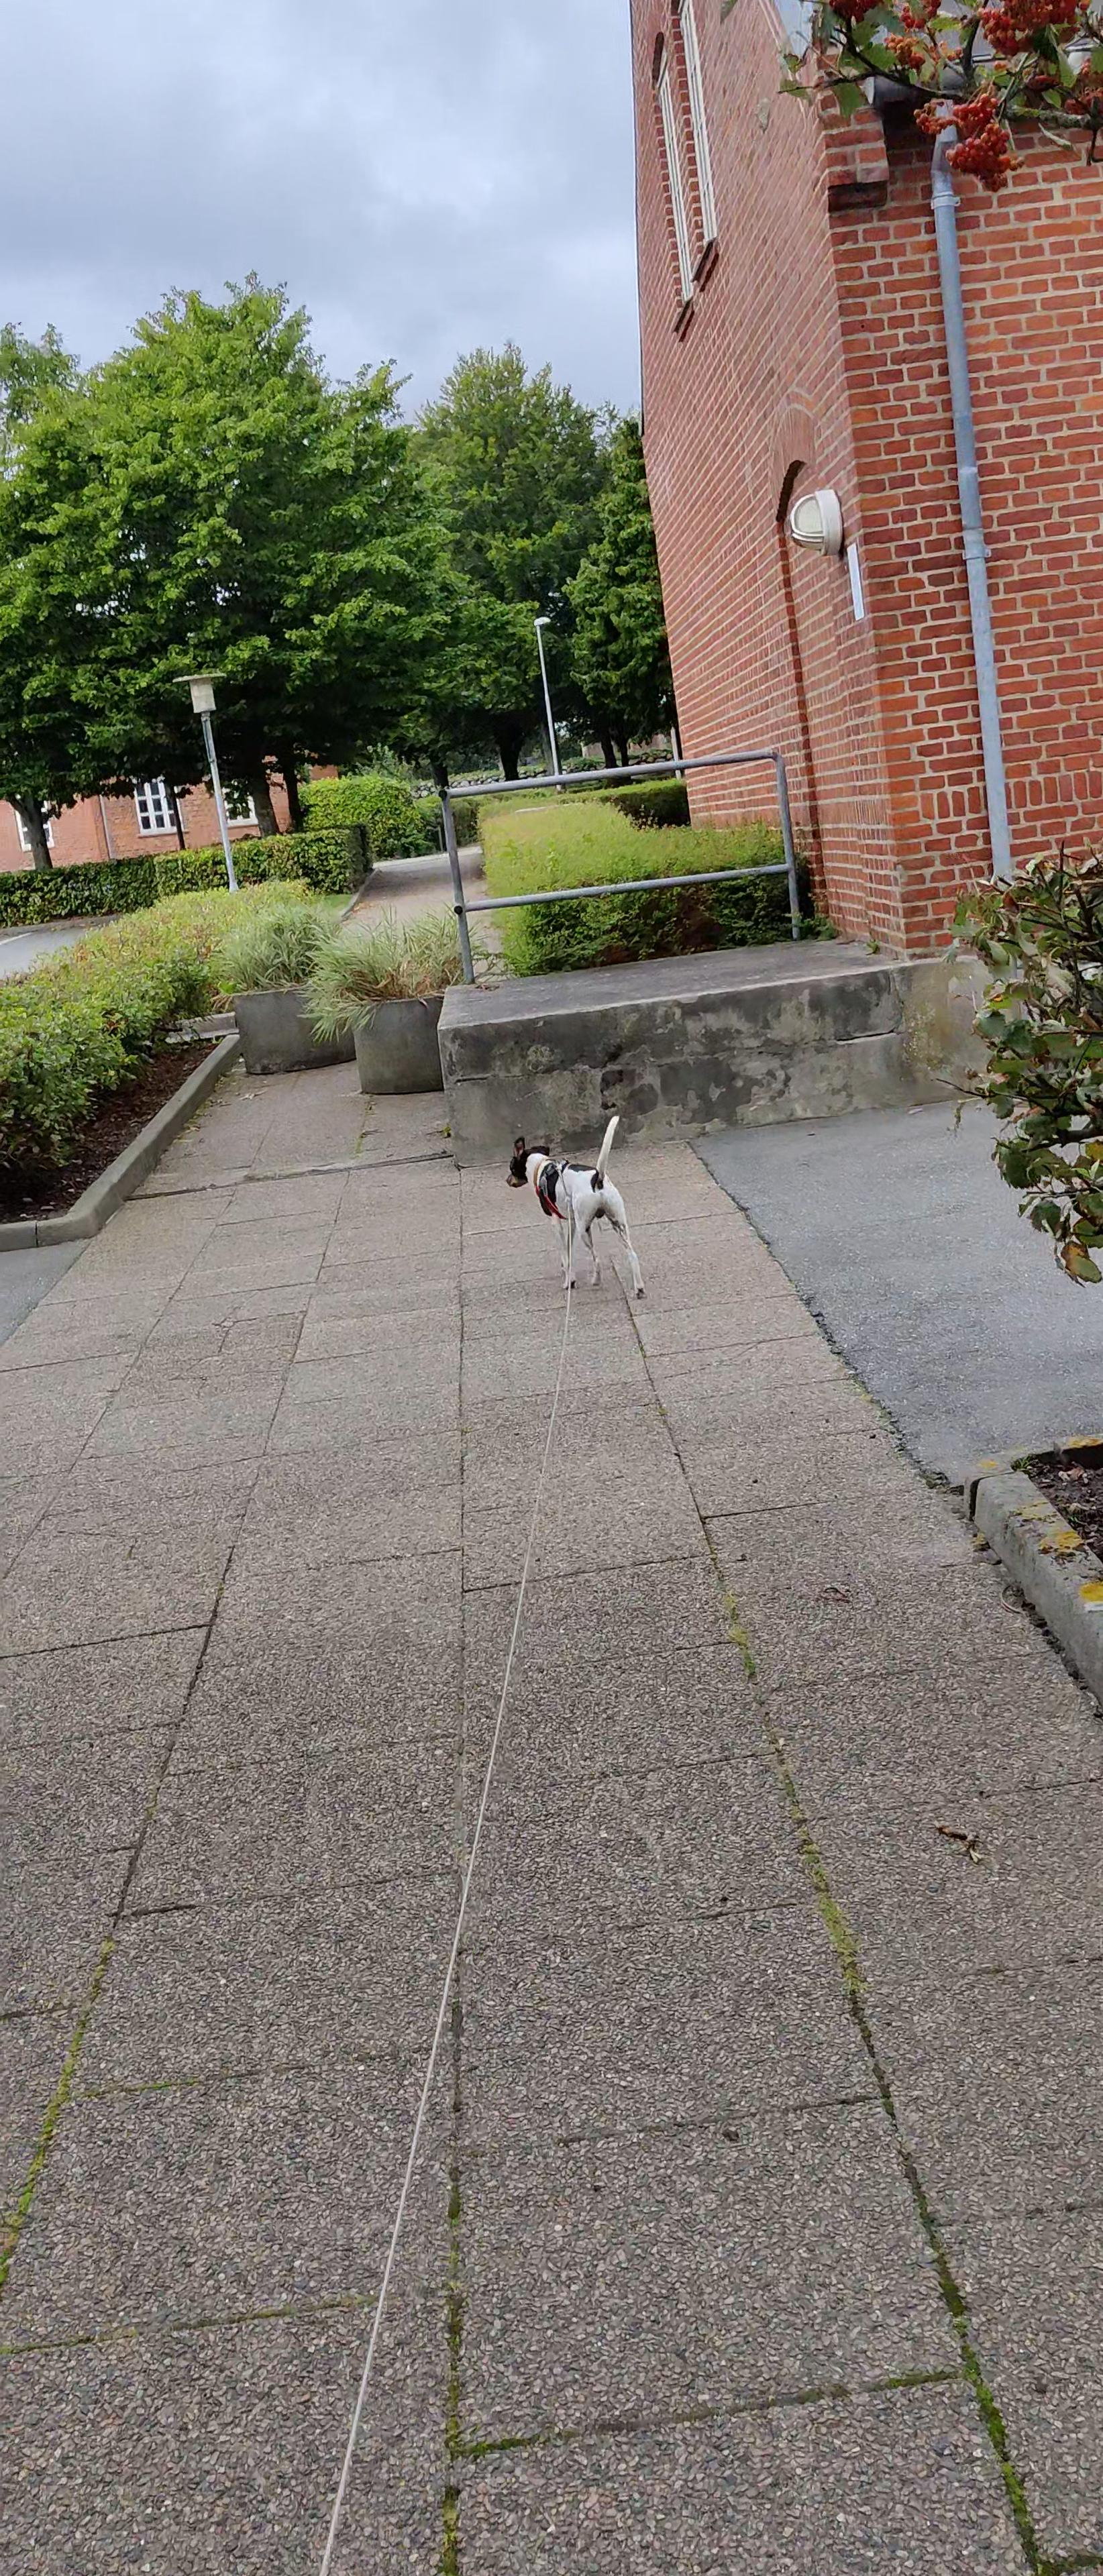Dog: (500, 1112, 648, 1303)
